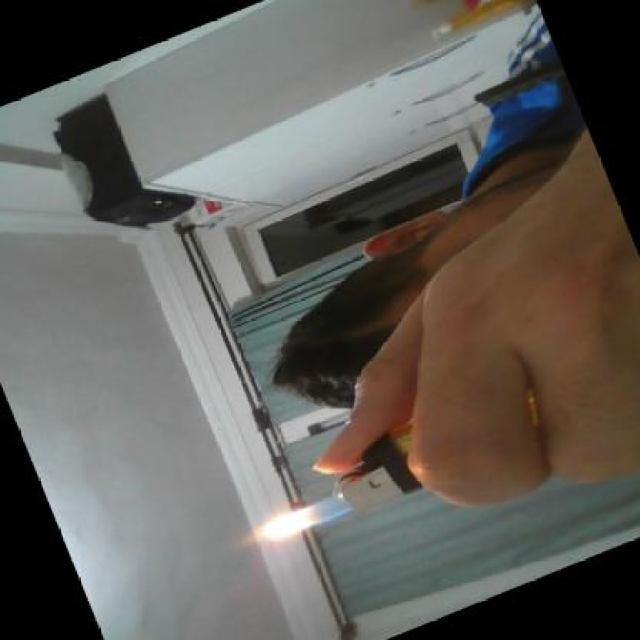Fire: (229, 482, 358, 548)
